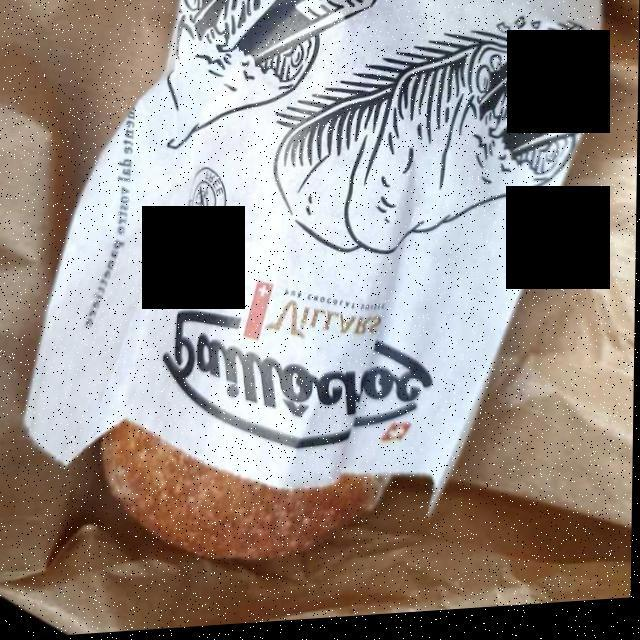bread: (106, 434, 387, 567)
